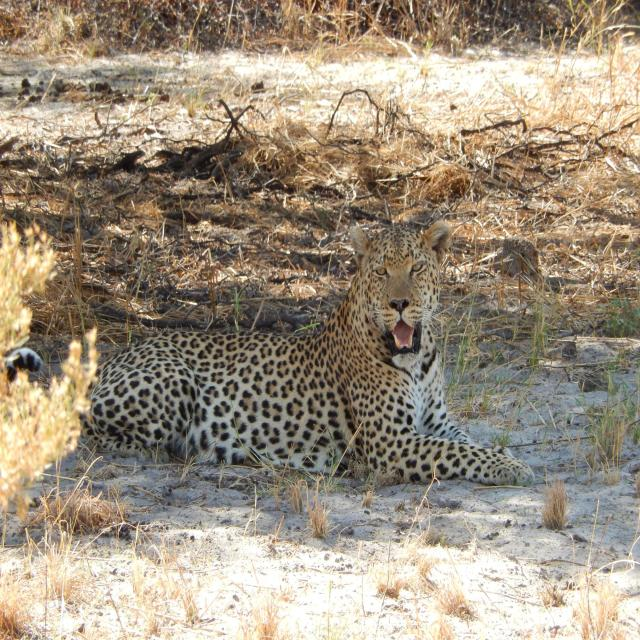Leopard: (14, 237, 540, 497)
